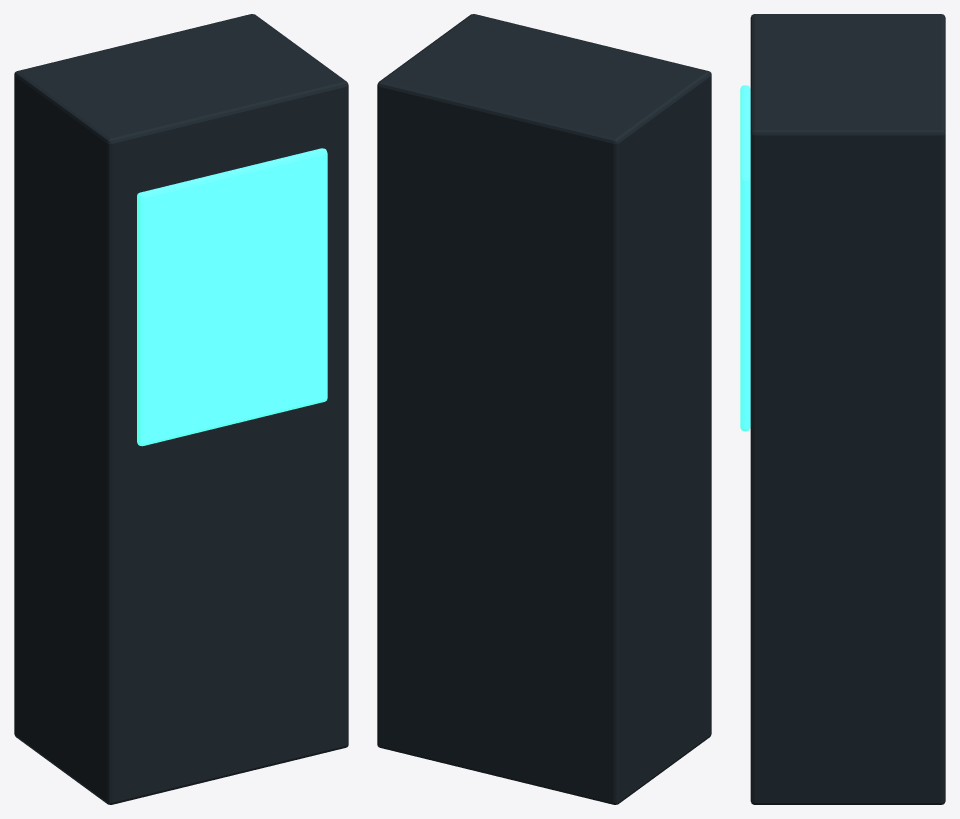
File: CC_S16_P2_Expansion_Digital_Kiosk_LOD0.fbx
The picture shows the model from 3 angles, left to right: view 1: azimuth 30°, elevation 25°; view 2: azimuth 150°, elevation 25°; view 3: azimuth 270°, elevation 25°; orthographic projection.
Parts seen in each view (by area): view 1: CC_S16_P2_Expansion_Digital_Kiosk_LOD0_Body, CC_S16_P2_Expansion_Digital_Kiosk_LOD0_Screen; view 2: CC_S16_P2_Expansion_Digital_Kiosk_LOD0_Body; view 3: CC_S16_P2_Expansion_Digital_Kiosk_LOD0_Body, CC_S16_P2_Expansion_Digital_Kiosk_LOD0_Screen.
Boxes of the visible parts, x1,y1,x2,y2 form: CC_S16_P2_Expansion_Digital_Kiosk_LOD0_Body: [14, 14, 348, 804]; CC_S16_P2_Expansion_Digital_Kiosk_LOD0_Screen: [137, 148, 327, 446]; CC_S16_P2_Expansion_Digital_Kiosk_LOD0_Body: [377, 14, 711, 804]; CC_S16_P2_Expansion_Digital_Kiosk_LOD0_Body: [750, 14, 945, 804]; CC_S16_P2_Expansion_Digital_Kiosk_LOD0_Screen: [740, 85, 750, 431].
Size of what is drawn, in the model's own units: 0.55 by 1.45 by 0.4.
